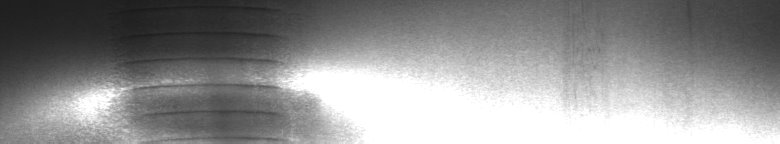ke: (53, 4, 320, 136)
